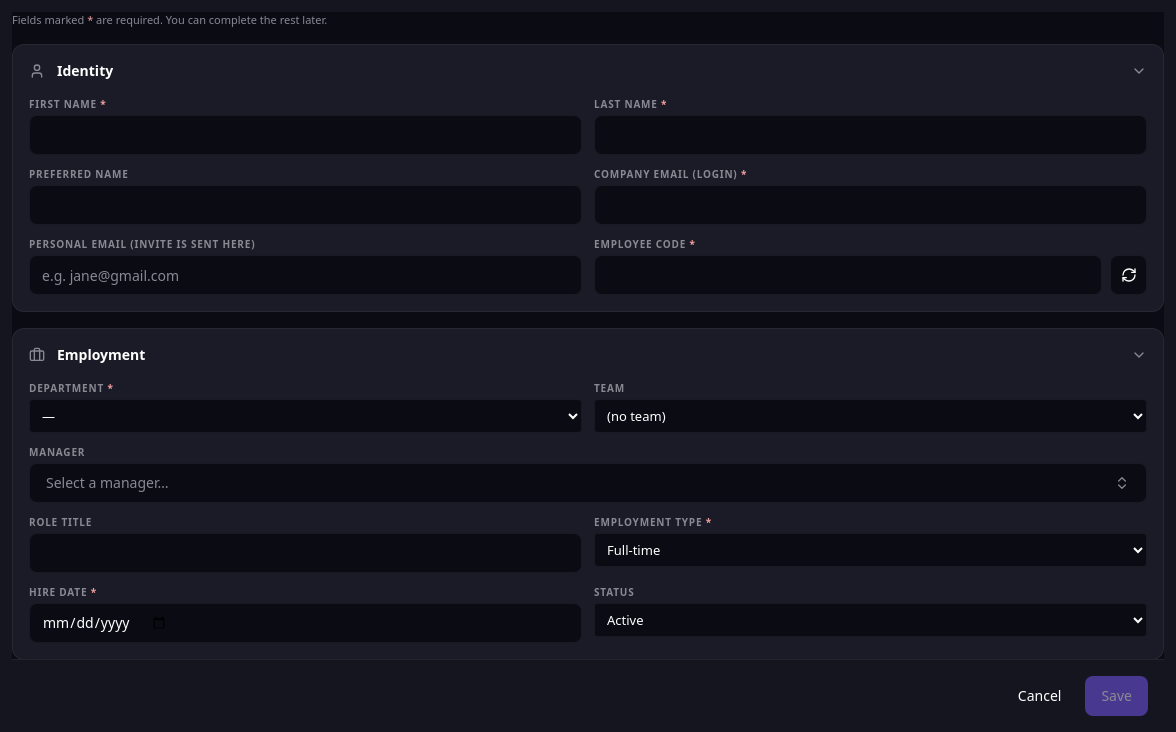
Test case: EmployeeForm › expands and collapses the employment section
Expected: the date field labelled "Hire date *" is shown, left=29, top=603, right=582, bottom=643
Click the button with aria-label "toggle employment" at (101, 354), box left=13, top=329, right=1163, bottom=381
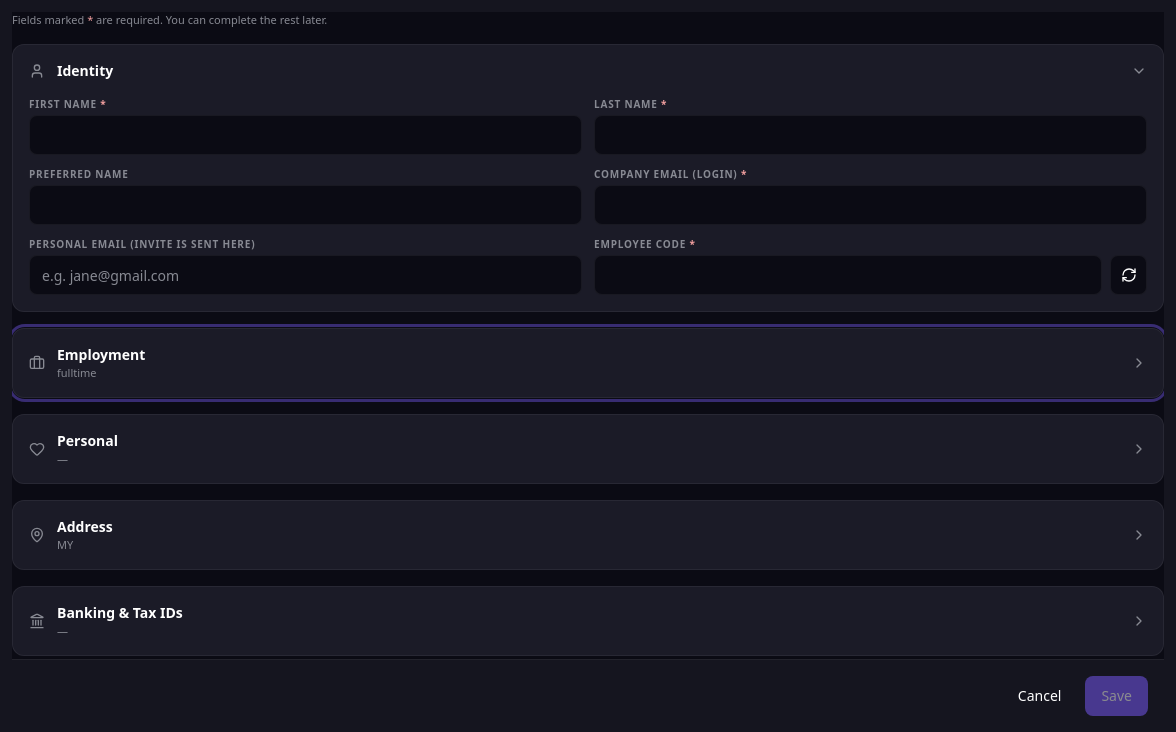
Now the label labelled "Hire date" is gone
